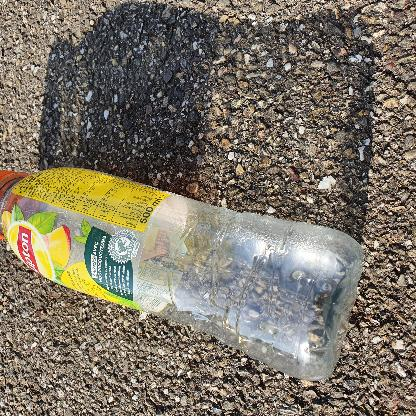Plastic Bottle: (0, 167, 364, 381)
